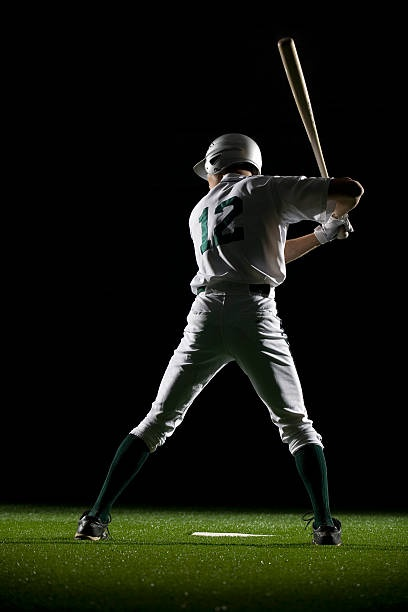bita: (277, 32, 348, 236)
